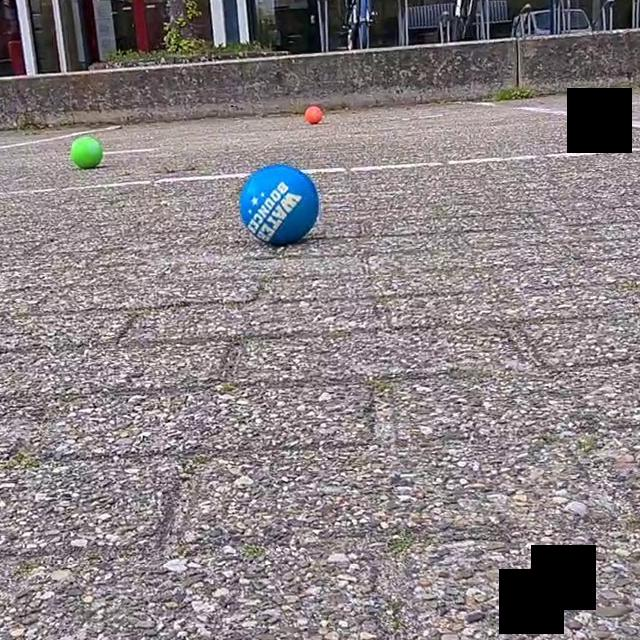ball: (66, 134, 106, 174), (302, 99, 328, 129)
